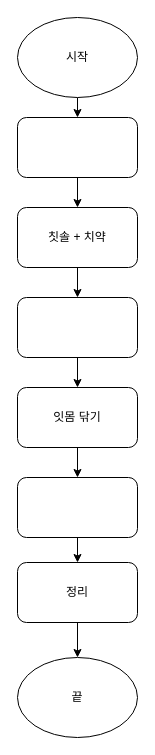
Image size: 155x755. Some labels were removed from this diagram. Each missing label, with the centre of its shape:
입 행구기: the point at 77,507
준비: the point at 77,147
칫솔질: the point at 77,327
